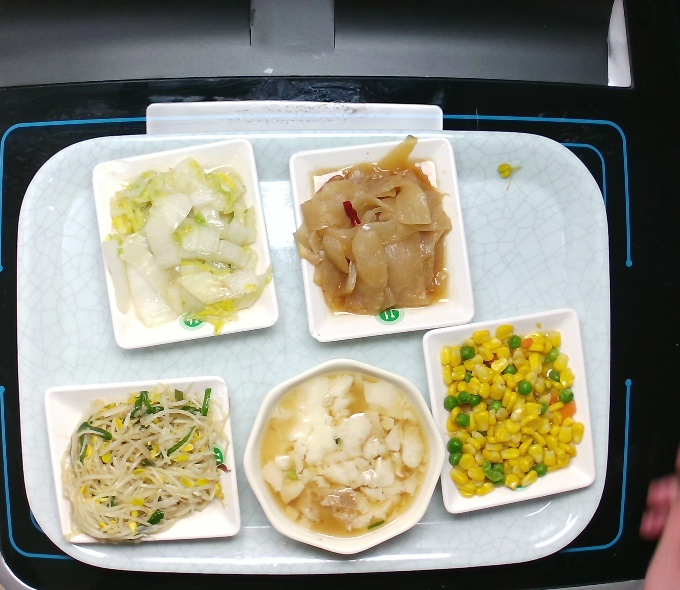wcq-DaBaiCai: (98, 152, 276, 340)
wcq-DongGua: (288, 131, 461, 319)
wcq-DouYa: (48, 377, 241, 553)
wcq-ShuiZhengDan: (249, 362, 439, 550)
wcq-TianMiTianDou: (433, 319, 591, 501)
